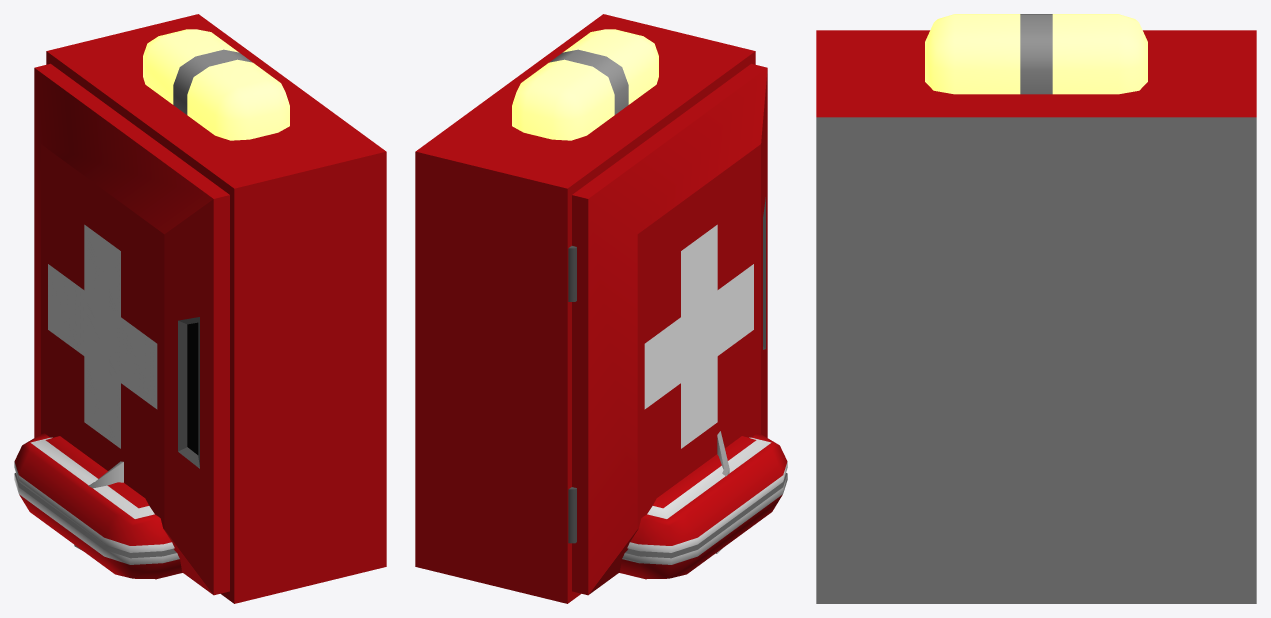
The model's file is MedStuff.fbx.
3 views of the same model, side by side, from view 1: azimuth 30°, elevation 25°; view 2: azimuth 150°, elevation 25°; view 3: azimuth 270°, elevation 25° (orthographic). The views are drawn at different scales.
Visible parts, largest first — view 1: MedStation, MedStation_Door, MedKit; view 2: MedStation, MedStation_Door, MedKit; view 3: MedStation.
Boxes of the visible parts, x1,y1,x2,y2 form: MedStation: (46, 14, 386, 603); MedStation_Door: (34, 63, 229, 595); MedKit: (14, 433, 182, 579); MedStation: (415, 14, 755, 603); MedStation_Door: (568, 63, 767, 595); MedKit: (619, 433, 787, 579); MedStation: (816, 14, 1256, 603).
Bounding box in the file's own units: 34.93 × 66.24 × 49.23.
